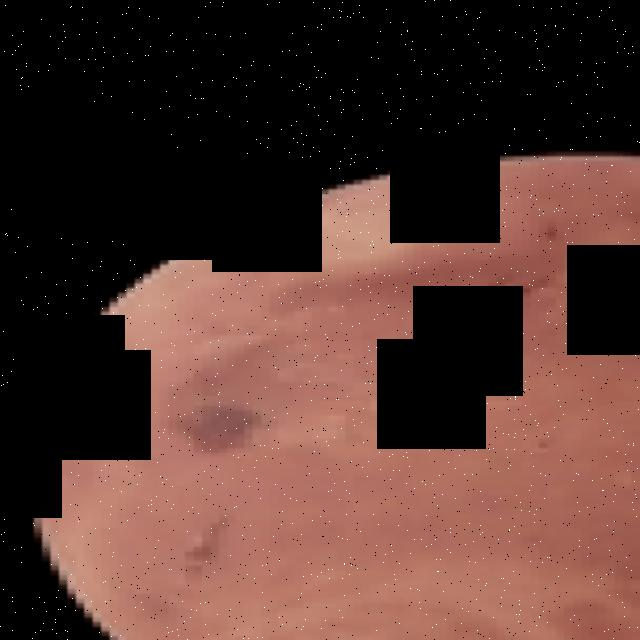Mars: (17, 150, 640, 640)
